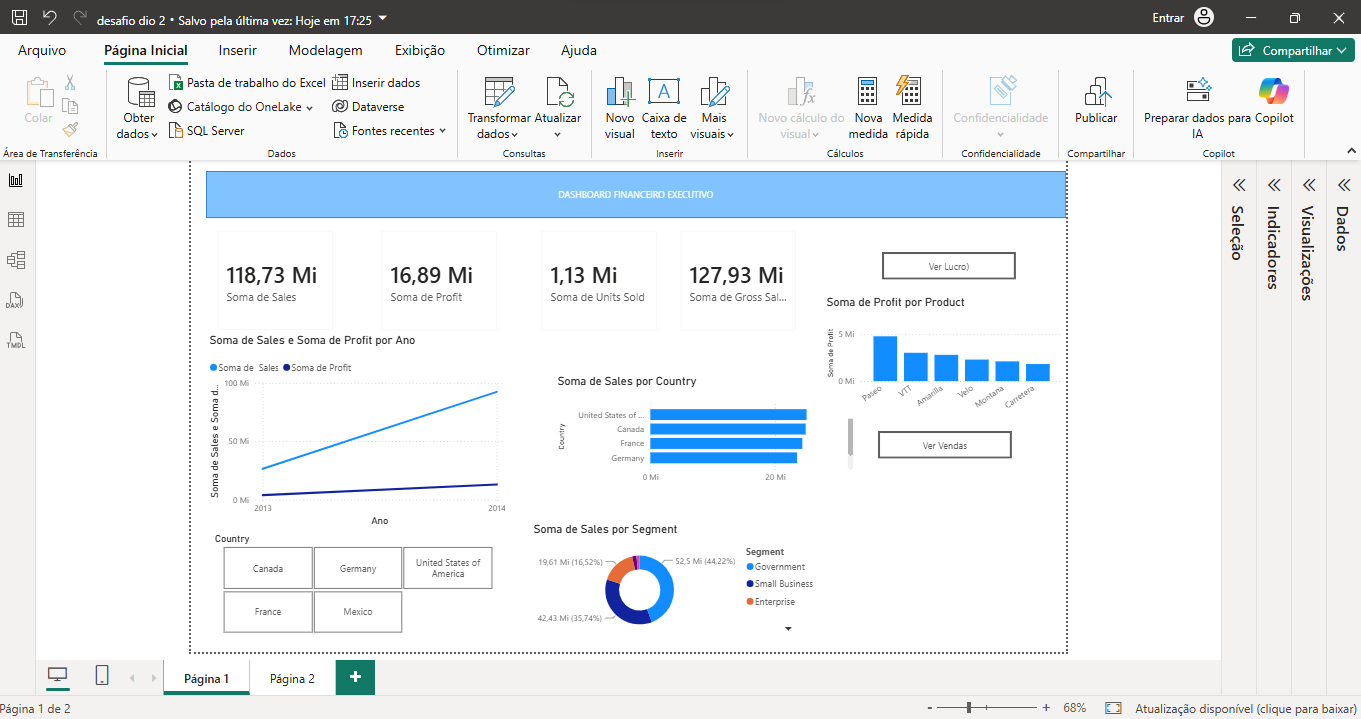

Layout of this report page (visuals, bound fields, positions):
{"tool":"powerbi","page":{"name":"Página 1","canvas":[1280,720],"ordinal":0},"visuals":[{"type":"shape","box":[21.8,16.8,1258.2,68.9],"z":0},{"type":"cardVisual","fields":{"Data":["Sum(financials. Sales)"]},"box":[21.8,85.7,203.3,179.7],"z":1000},{"type":"cardVisual","fields":{"Data":["Sum(financials.Profit)"]},"box":[262,85.7,203,180],"z":2000},{"type":"cardVisual","fields":{"Data":["Sum(financials.Units Sold)"]},"box":[495.5,85.7,203,180],"z":3000},{"type":"cardVisual","fields":{"Data":["Sum(financials.Gross Sales)"]},"box":[698.8,85.7,203,180],"z":4000},{"type":"lineChart","fields":{"Category":["financials.Date.Variation.Hierarquia de datas.Ano","financials.Date.Variation.Hierarquia de datas.Trimestre","financials.Date.Variation.Hierarquia de datas.Mês","financials.Date.Variation.Hierarquia de datas.Dia"],"Y":["Sum(financials. Sales)","Sum(financials.Profit)"]},"box":[21.8,253.6,443.5,287.2],"z":5000},{"type":"barChart","fields":{"Category":["financials.Country"],"Y":["Sum(financials. Sales)"]},"box":[530.8,312.4,443,169],"z":6000},{"type":"donutChart","fields":{"Category":["financials.Segment"],"Y":["Sum(financials. Sales)"]},"box":[495.5,529.1,443,169],"z":7000},{"type":"slicer","fields":{"Values":["financials.Country"]},"box":[22,541,443,157],"z":8000},{"type":"columnChart","fields":{"Category":["financials.Product"],"Y":["Sum(financials.Profit)"]},"box":[924.3,198.1,355.7,181],"z":10000},{"type":"actionButton","box":[1011.6,134.2,195.9,40.5],"z":11000},{"type":"actionButton","box":[1005.3,396.1,195.9,40.5],"z":12000}]}

Visuals, with their boxes on the page's 1280x720 design canvas (x1, y1, x2, y2). These are canvas units, not pixel positions in the 1361x719 screenshot, which may show the page scaled, cropped or inside an application window:
shape: bbox=(22, 17, 1280, 86)
cardVisual - Sum(financials. Sales): bbox=(22, 86, 225, 265)
cardVisual - Sum(financials.Profit): bbox=(262, 86, 465, 266)
cardVisual - Sum(financials.Units Sold): bbox=(496, 86, 698, 266)
cardVisual - Sum(financials.Gross Sales): bbox=(699, 86, 902, 266)
lineChart - financials.Date.Variation.Hierarquia de datas.Ano x financials.Date.Variation.Hierarquia de datas.Trimestre: bbox=(22, 254, 465, 541)
barChart - financials.Country x Sum(financials. Sales): bbox=(531, 312, 974, 481)
donutChart - financials.Segment x Sum(financials. Sales): bbox=(496, 529, 938, 698)
slicer - financials.Country: bbox=(22, 541, 465, 698)
columnChart - financials.Product x Sum(financials.Profit): bbox=(924, 198, 1280, 379)
actionButton: bbox=(1012, 134, 1208, 175)
actionButton: bbox=(1005, 396, 1201, 437)
